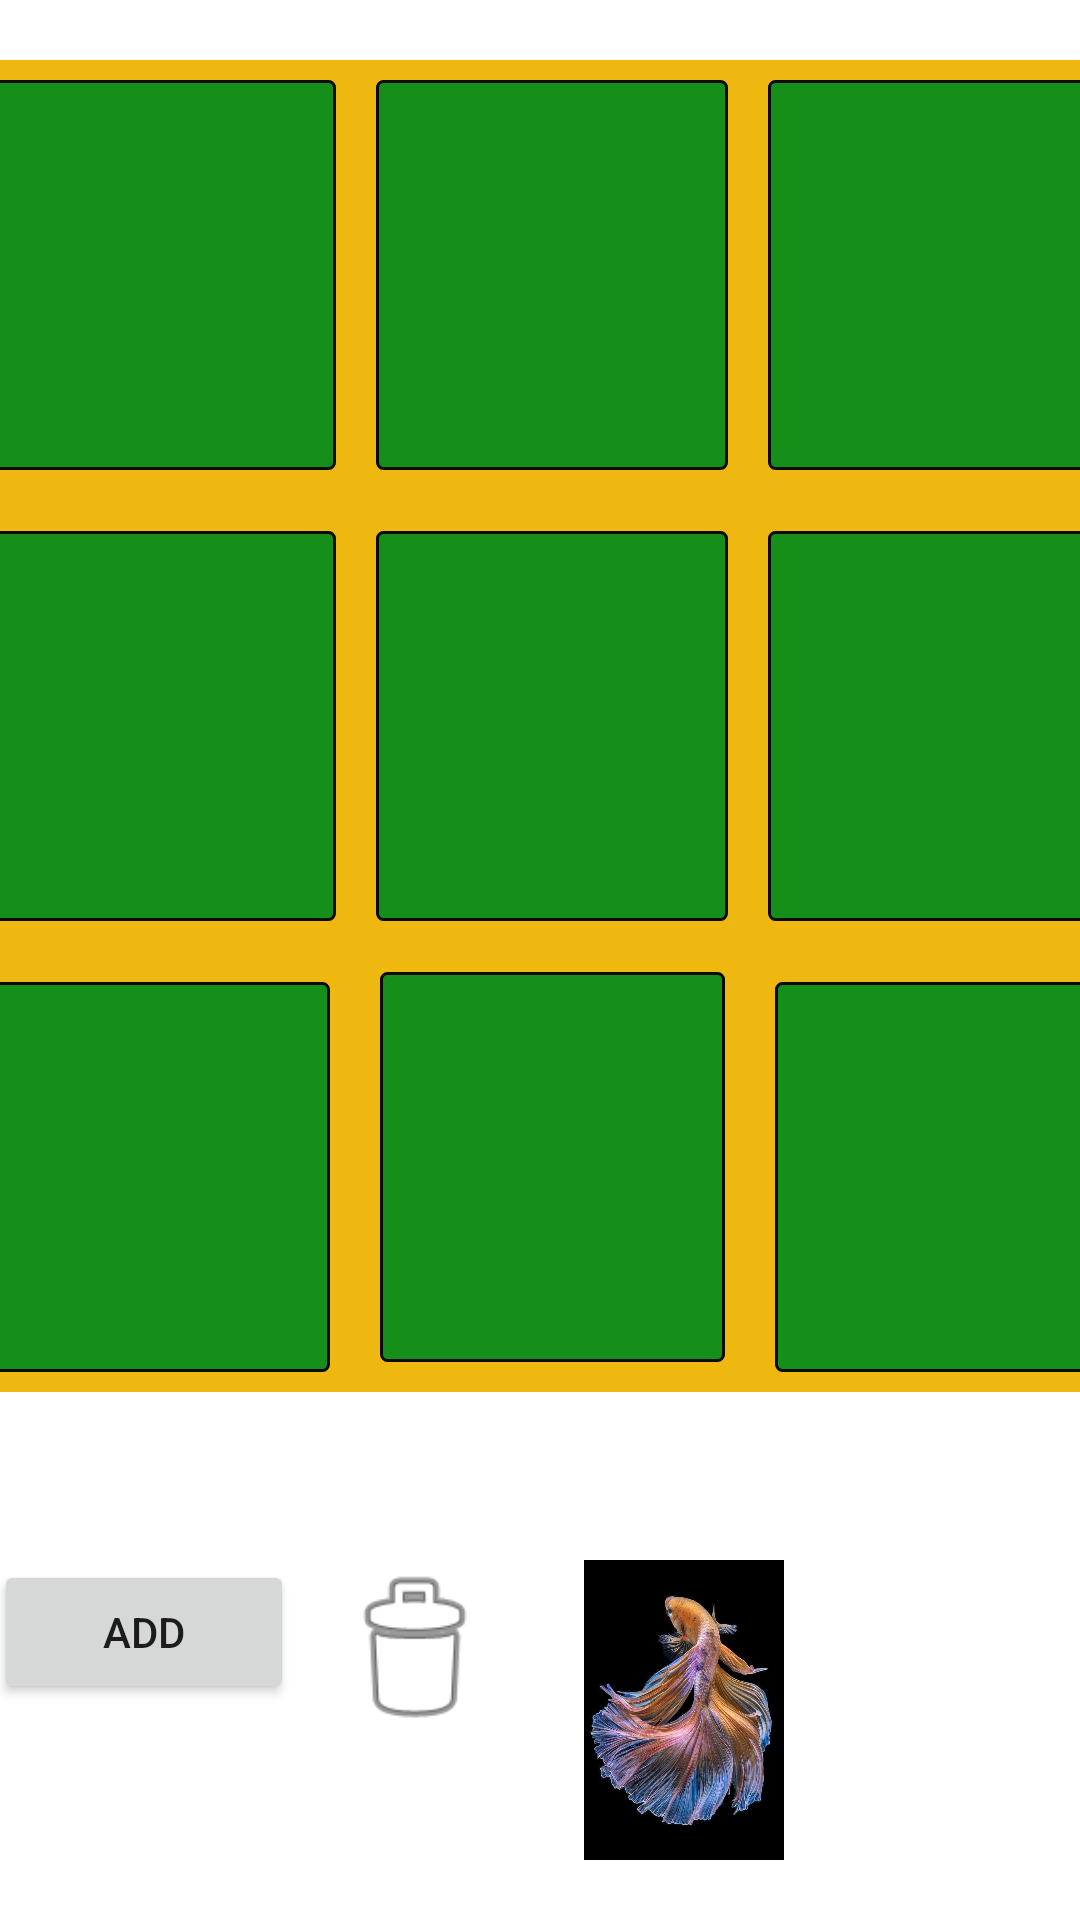

Icons on this 1080x1920 Android screen, each with its box as (x1, y1, x2, y2):
delete: (364, 1577, 466, 1718)
hinhca: (584, 1560, 784, 1860)
